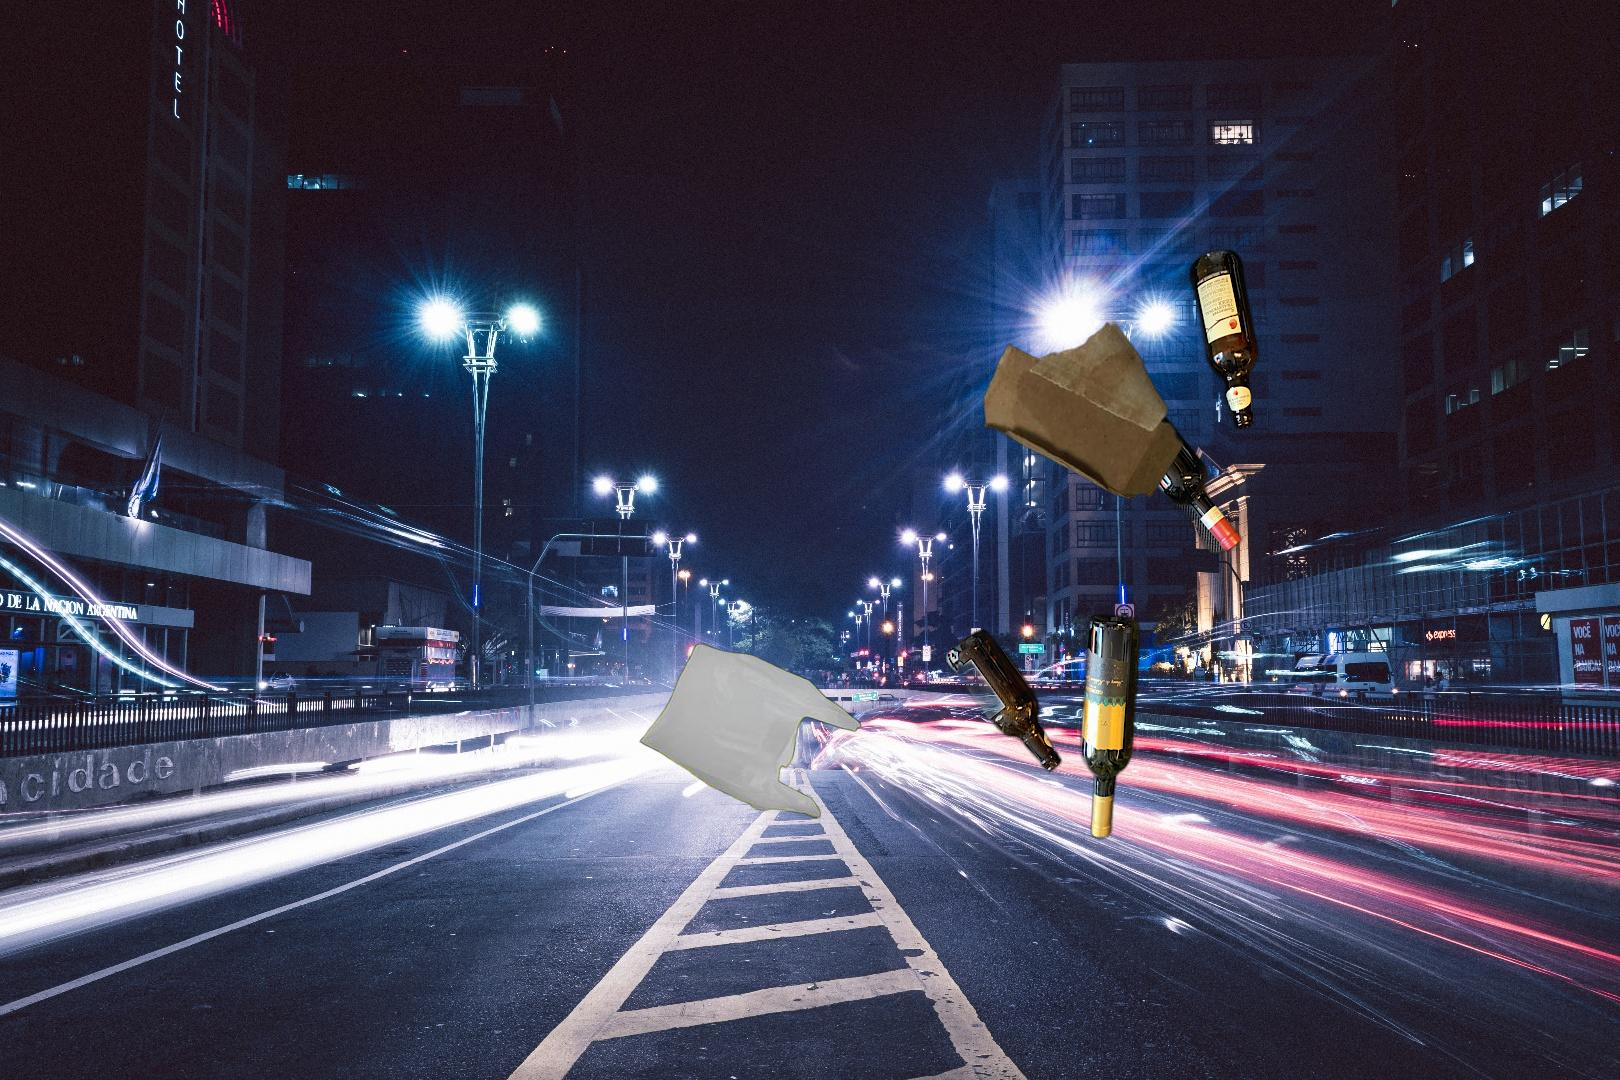glass: (941, 243, 1262, 844)
paper: (979, 318, 1188, 501)
plastic-bag: (636, 641, 864, 821)
